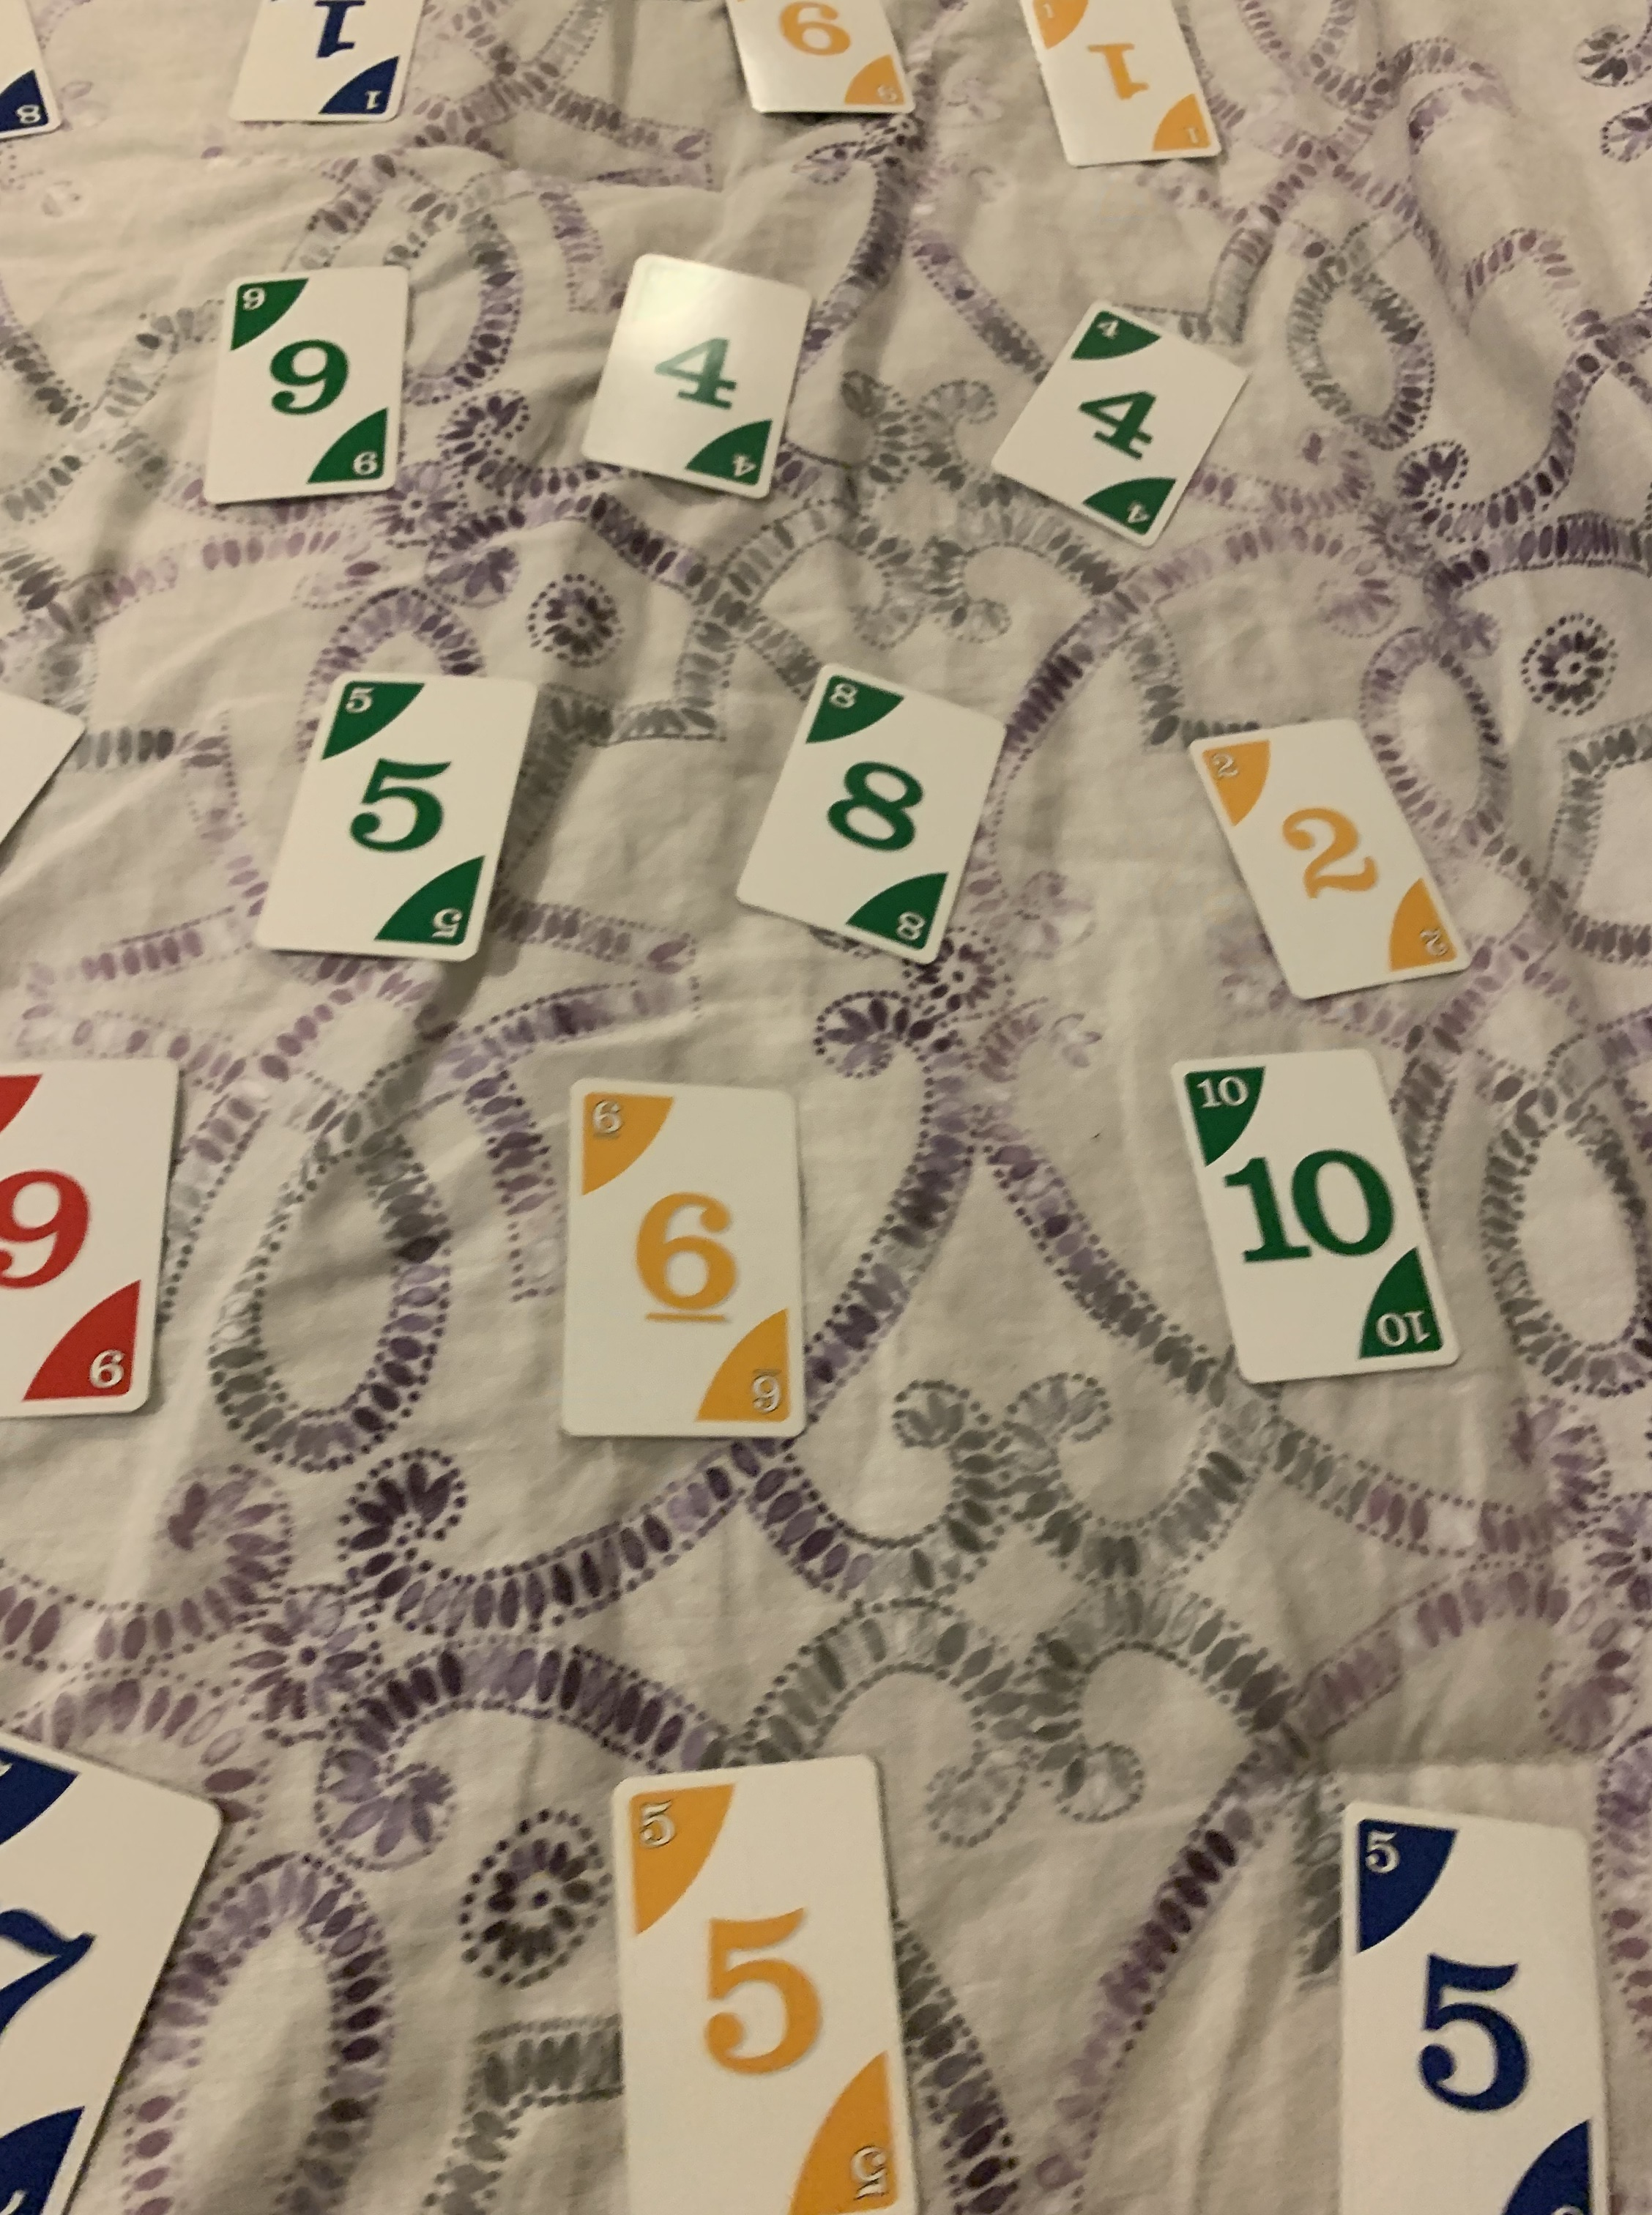eight: (715, 656, 1006, 974)
five: (606, 1753, 920, 2215), (1333, 1797, 1617, 2215), (259, 674, 543, 967)
four: (982, 290, 1260, 554), (571, 248, 821, 514)
nine: (201, 264, 408, 516)
one: (1024, 0, 1229, 175)
six: (559, 1069, 812, 1444)
ten: (1175, 1042, 1459, 1394)
two: (1178, 708, 1470, 1009)
